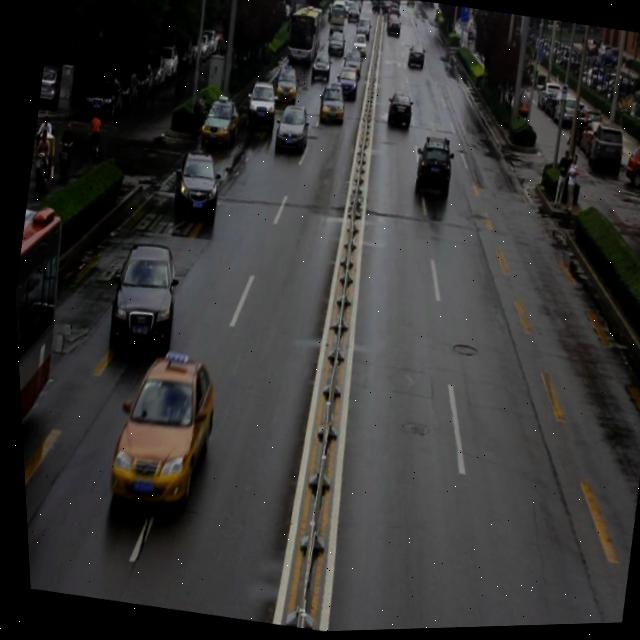car: (96, 342, 222, 513), (99, 238, 183, 353), (168, 148, 224, 220), (405, 134, 456, 203), (197, 92, 242, 150), (269, 104, 311, 157), (241, 78, 279, 132), (381, 91, 414, 132), (314, 84, 346, 126), (269, 65, 300, 106), (332, 68, 359, 104)
van: (8, 206, 79, 509)
